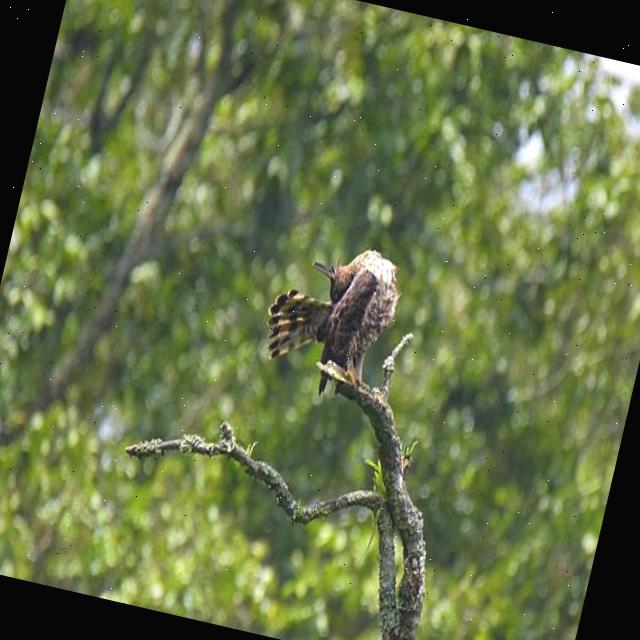Elang Jawa: (231, 212, 427, 422)
